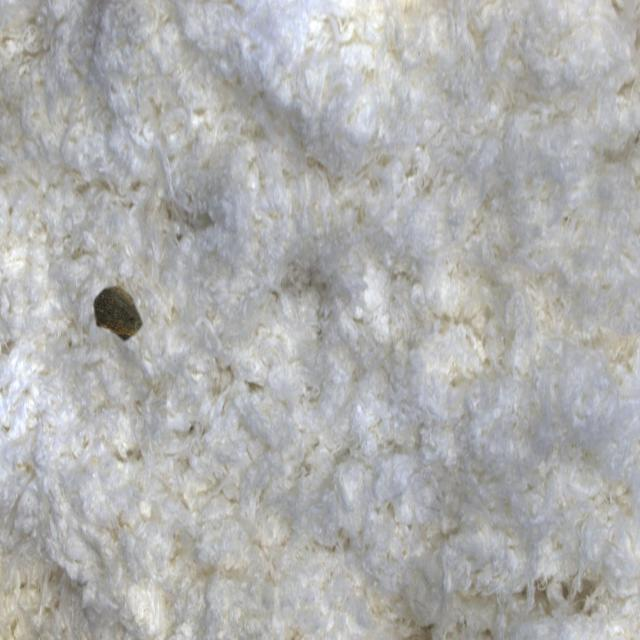dust: (80, 256, 169, 377)
